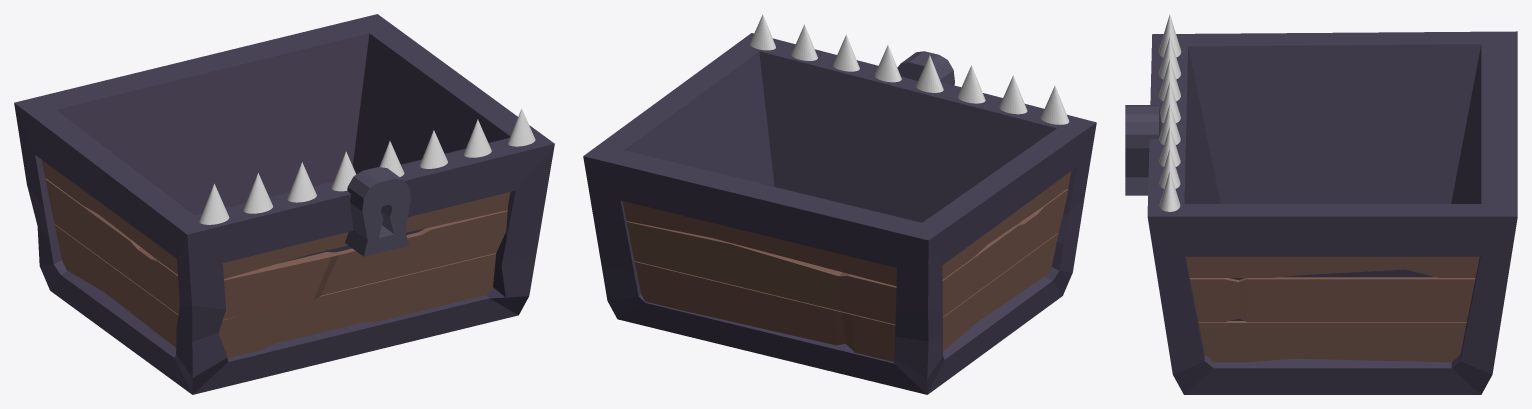
File: ChestBottom.fbx
3 renders of one model, left to right at view 1: azimuth 30°, elevation 25°; view 2: azimuth 150°, elevation 25°; view 3: azimuth 270°, elevation 25°, orthographic. The views are drawn at different scales.
Parts seen in each view (by area): view 1: Chest_Open, Cone; view 2: Chest_Open, Cone; view 3: Chest_Open, Cone.
Boxes of the visible parts, bbox=[...] form: Chest_Open: bbox=[14, 14, 554, 394]; Cone: bbox=[199, 108, 535, 224]; Chest_Open: bbox=[583, 33, 1096, 394]; Cone: bbox=[749, 14, 1069, 124]; Chest_Open: bbox=[1125, 31, 1517, 394]; Cone: bbox=[1158, 14, 1181, 211].
Bounding box in the file's own units: 92 × 51.25 × 81.99.
